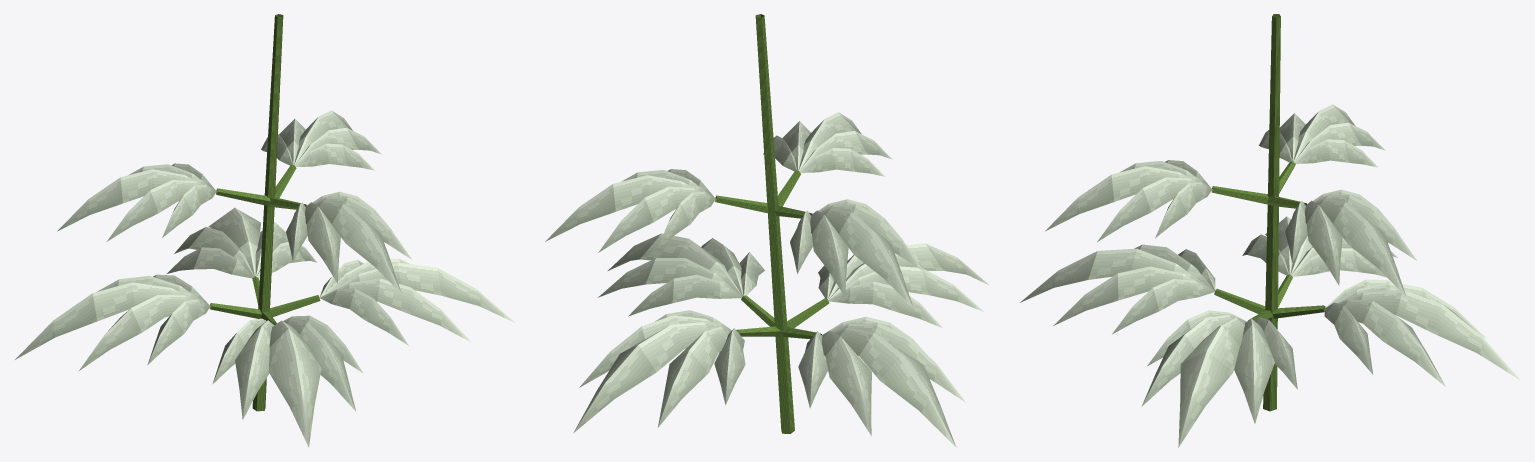
File: tall_1.obj
3 views of the same model, side by side, from view 1: azimuth 30°, elevation 25°; view 2: azimuth 150°, elevation 25°; view 3: azimuth 270°, elevation 25° (orthographic). The views are drawn at different scales.
Parts seen in each view (by area): view 1: plant; view 2: plant; view 3: plant.
Part boxes in pixels (box(x1,y1,x2,y2)): plant: box(15, 14, 514, 447); plant: box(545, 14, 989, 447); plant: box(1020, 14, 1519, 447).
Bounding box in the file's own units: 0.7306 × 0.6501 × 0.7306.
